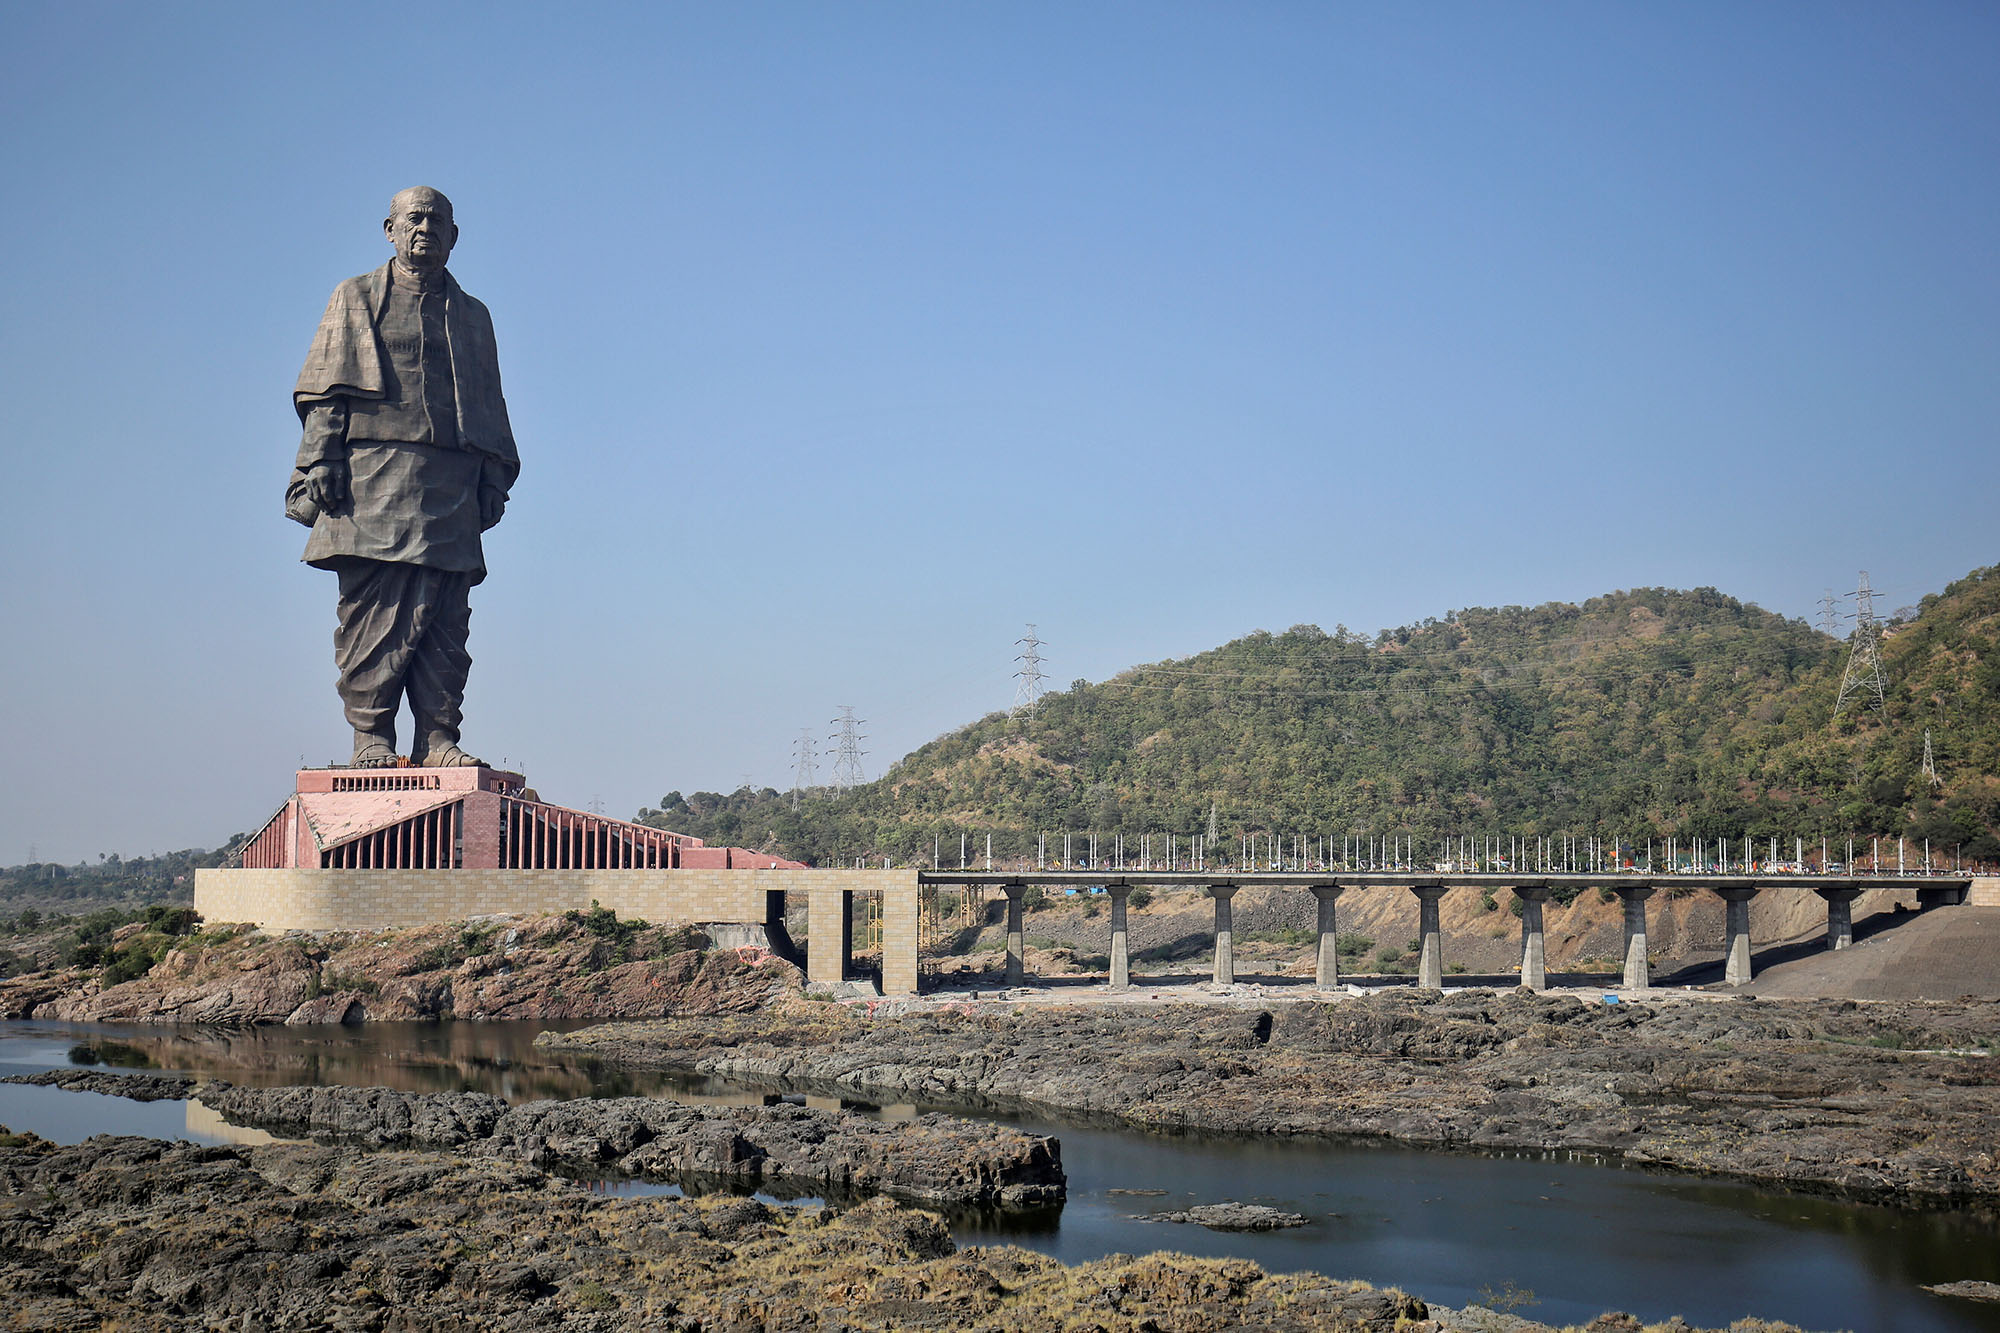person-like: (276, 179, 535, 779)
